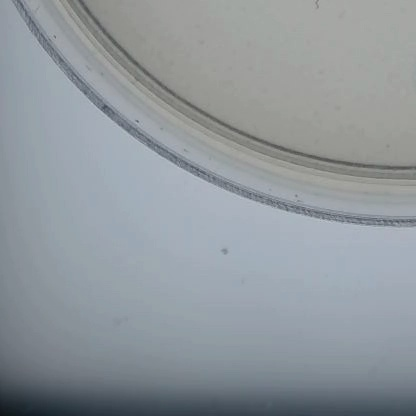worm: (306, 0, 323, 24)
